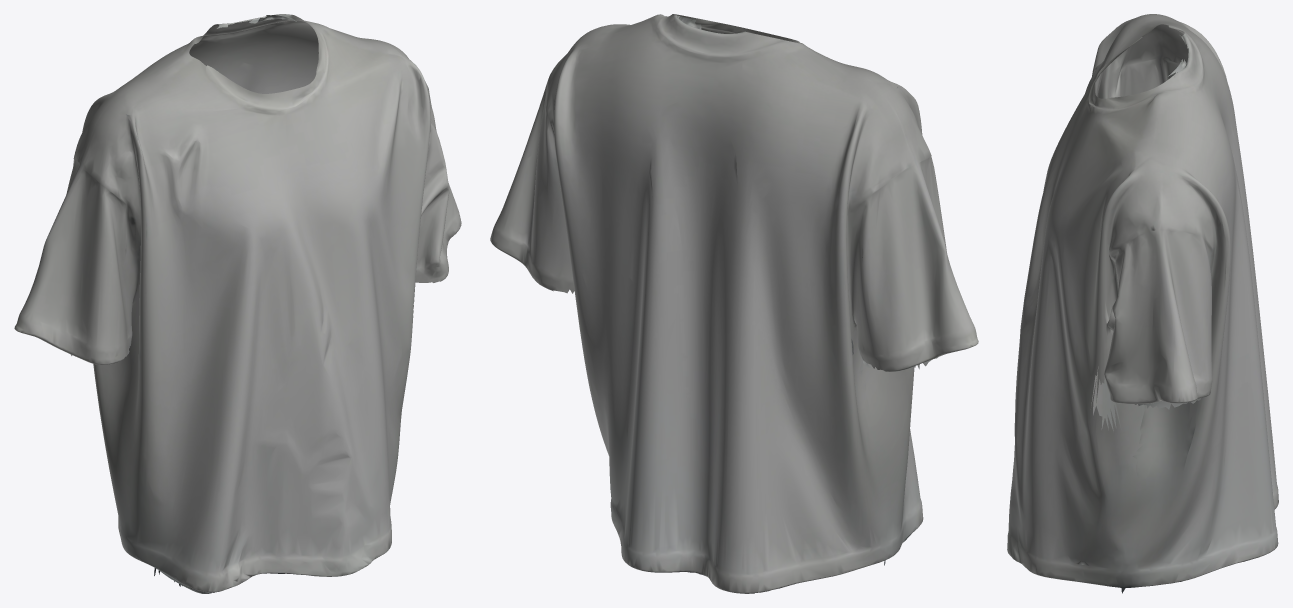
The picture shows the model from 3 angles, left to right: view 1: azimuth 30°, elevation 25°; view 2: azimuth 150°, elevation 25°; view 3: azimuth 270°, elevation 25°; orthographic projection. The views are drawn at different scales.
Parts seen in each view (by area): view 1: TT08-W03_hy; view 2: TT08-W03_hy; view 3: TT08-W03_hy.
Boxes of the visible parts, <box> form: TT08-W03_hy: <box>14,14,461,593</box>; TT08-W03_hy: <box>490,14,978,593</box>; TT08-W03_hy: <box>1007,14,1278,593</box>.
Bounding box in the file's own units: 0.9345 × 1 × 0.49.
1 material, 1 textured.
